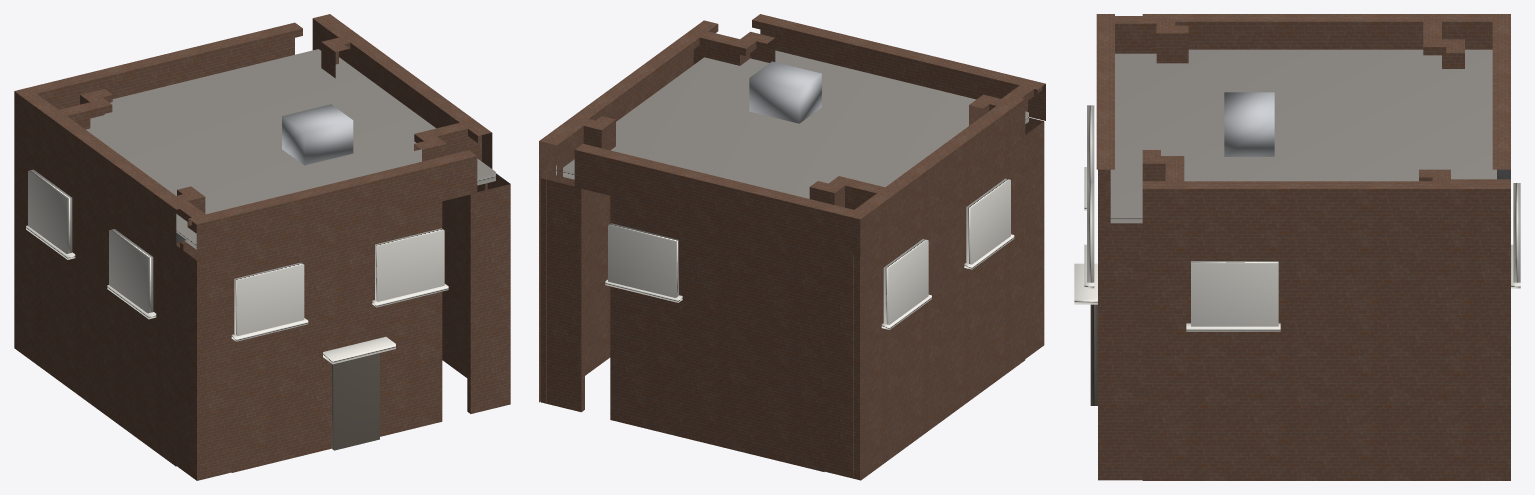
File: b_house1.gltf
3 views of the same model, side by side, from view 1: azimuth 30°, elevation 25°; view 2: azimuth 150°, elevation 25°; view 3: azimuth 270°, elevation 25° (orthographic). The views are drawn at different scales.
Parts seen in each view (by area): view 1: b_house1; view 2: b_house1; view 3: b_house1.
Part boxes in pixels (x1,y1,x2,y2): b_house1: (14,14,510,480); b_house1: (539,14,1045,480); b_house1: (1074,14,1520,480).
Bounding box in the file's own units: 9.48 × 7.3 × 9.7.
Materials: 10 (4 with a texture image).
